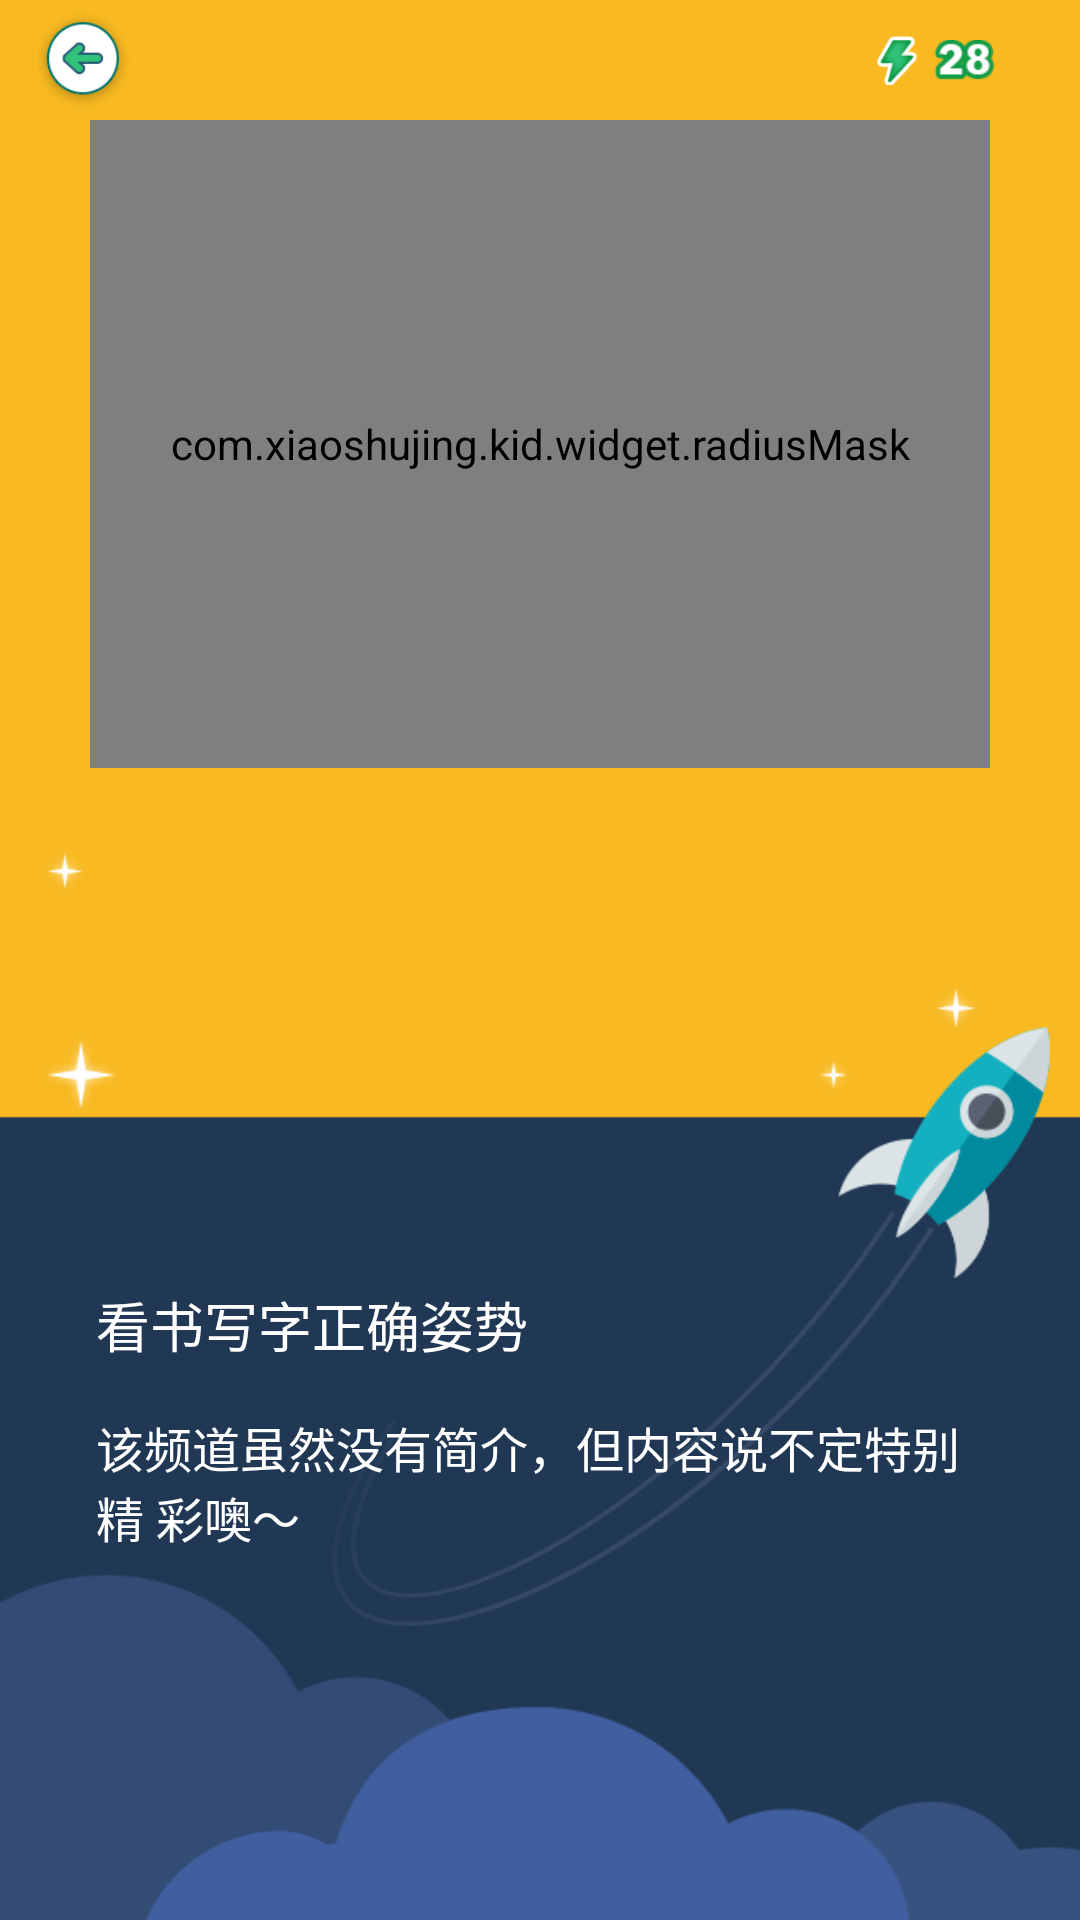

Named icons in this screenshot (1080*1920) and their centers, (x,y):
back: (83,60)
energy home: (897,60)
